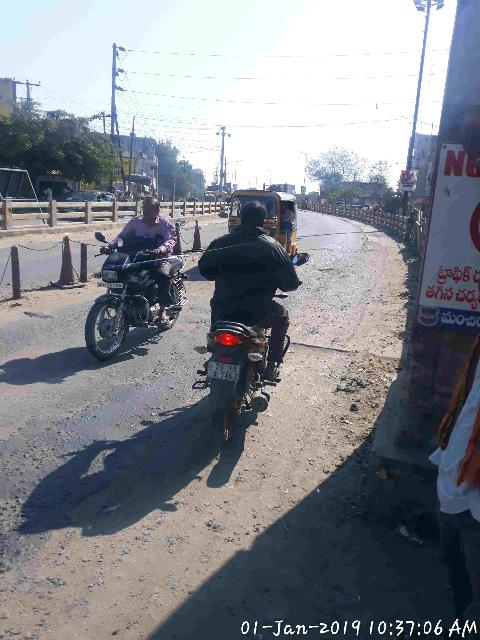motor: (192, 250, 313, 446), (85, 230, 192, 365)
non-helm: (239, 201, 267, 232), (143, 196, 162, 222)
